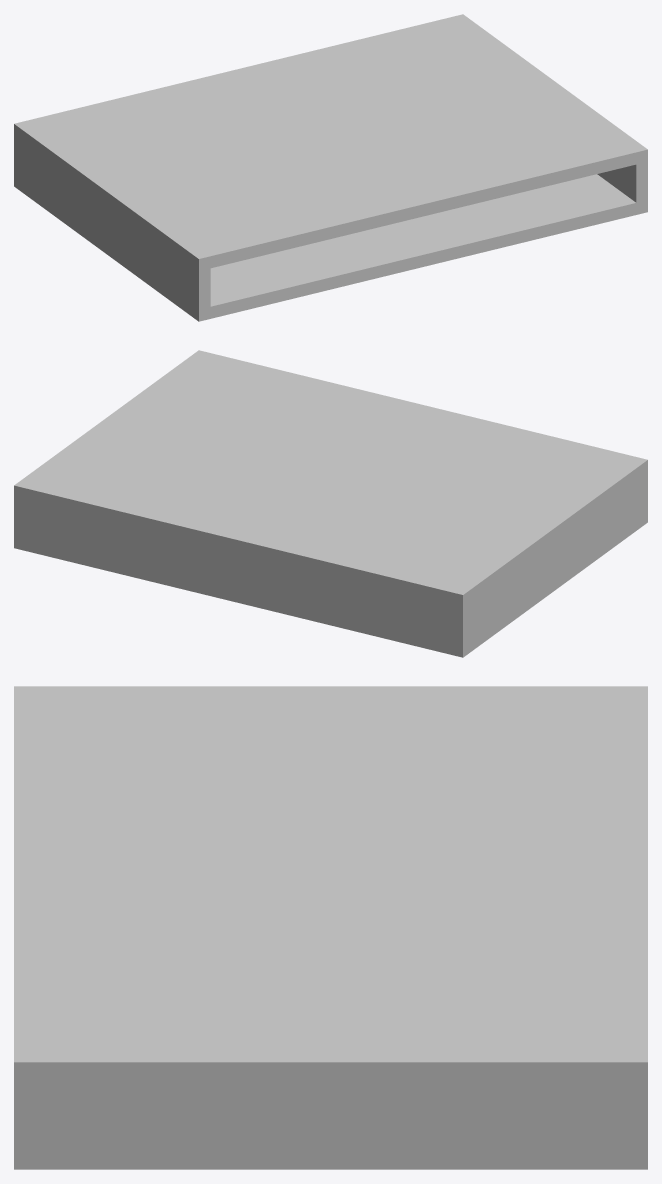
The model's file is Hood1_C2_01.fbx.
3 views of the same model, one above another, from view 1: azimuth 30°, elevation 25°; view 2: azimuth 150°, elevation 25°; view 3: azimuth 270°, elevation 25° (orthographic). The views are drawn at different scales.
Visible parts, largest first — view 1: Hood1_C2_01; view 2: Hood1_C2_01; view 3: Hood1_C2_01.
Boxes of the visible parts, x1,y1,x2,y2 form: Hood1_C2_01: (14, 14, 647, 321); Hood1_C2_01: (14, 350, 647, 657); Hood1_C2_01: (14, 686, 647, 1169).
Size of the model in its own units: 60 by 8.27 by 42.78.
